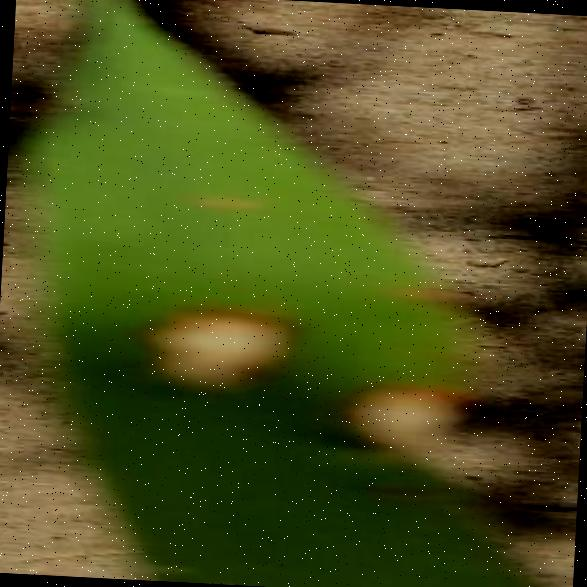Leaf_smut: (105, 270, 329, 426), (318, 344, 499, 466)
